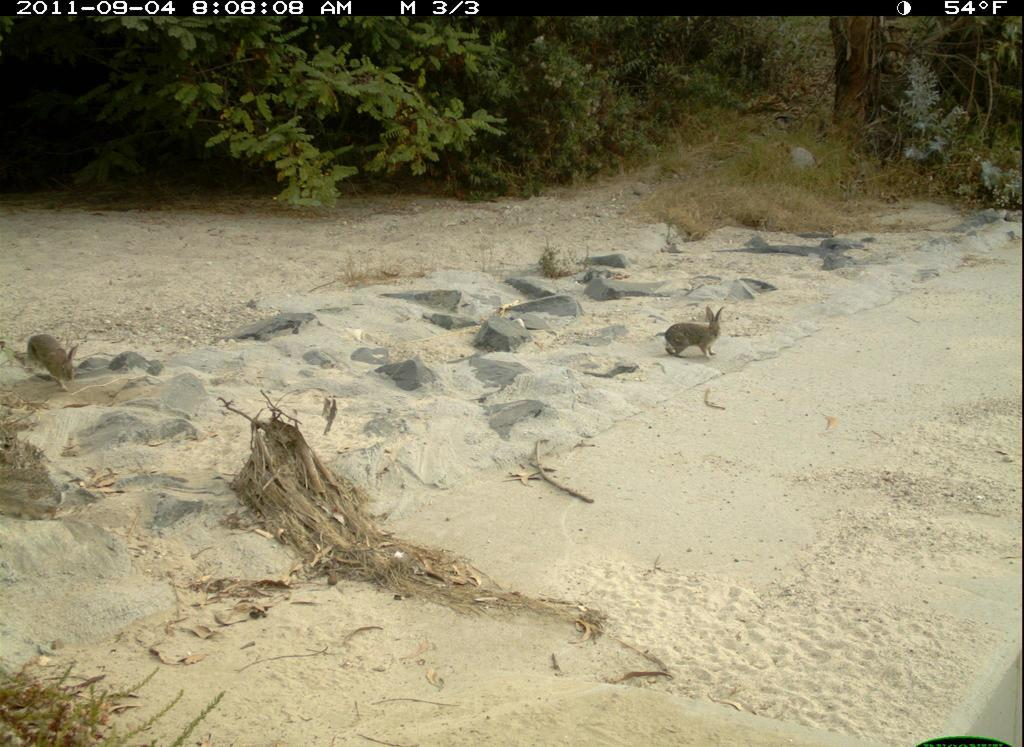rabbit: (23, 328, 87, 396)
